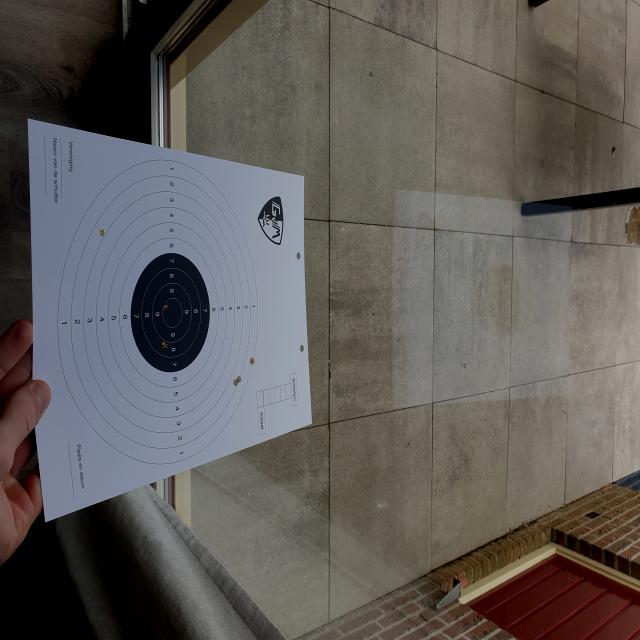1: (249, 358, 255, 366)
10: (163, 302, 168, 311)
2: (99, 228, 106, 237), (233, 379, 238, 387), (238, 374, 242, 382)
9: (162, 340, 168, 350)
Target: (59, 158, 260, 466)
black_contour: (131, 253, 210, 373)
